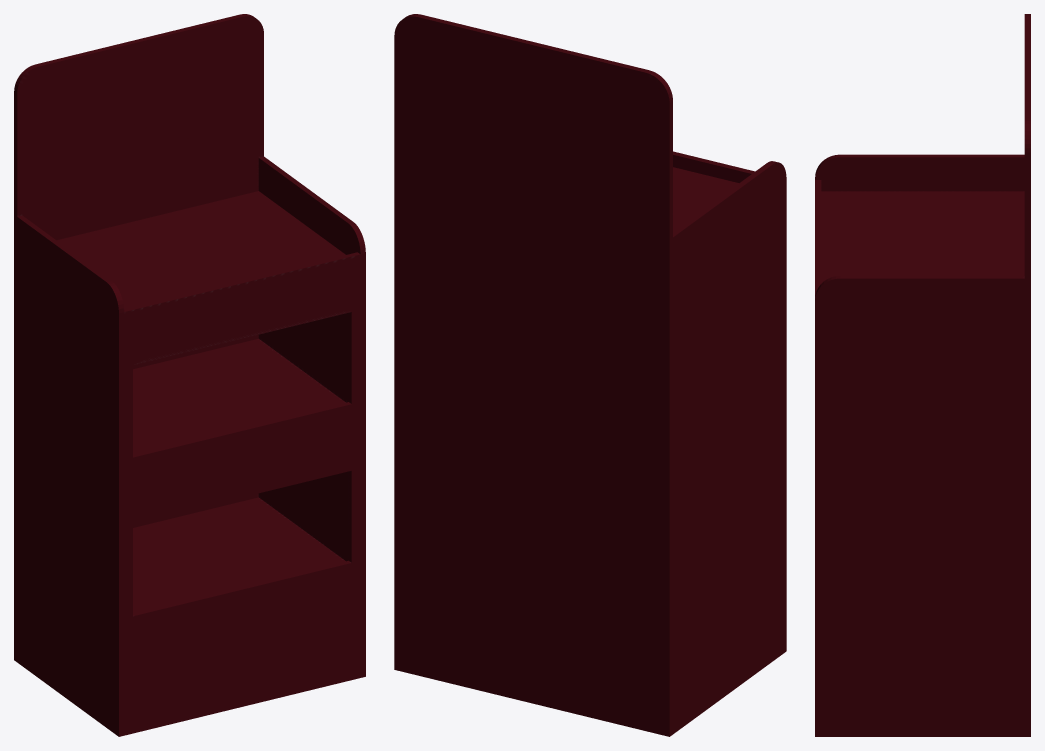
File: Choco CO Shipper v5.glb
3 renders of one model, left to right at view 1: azimuth 30°, elevation 25°; view 2: azimuth 150°, elevation 25°; view 3: azimuth 270°, elevation 25°, orthographic. The views are drawn at different scales.
Visible parts, largest first — view 1: node_id3; view 2: node_id3; view 3: node_id3.
Part boxes in pixels (<box>): node_id3: <box>14,14,365,736</box>; node_id3: <box>394,14,786,736</box>; node_id3: <box>815,14,1030,736</box>.
Bounding box in the file's own units: 0.224 × 0.512 × 0.1648.
1 material, 1 textured.
